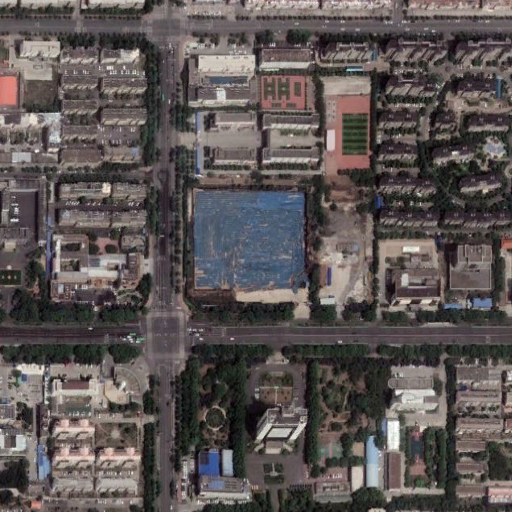cw: (192, 189, 307, 294)
